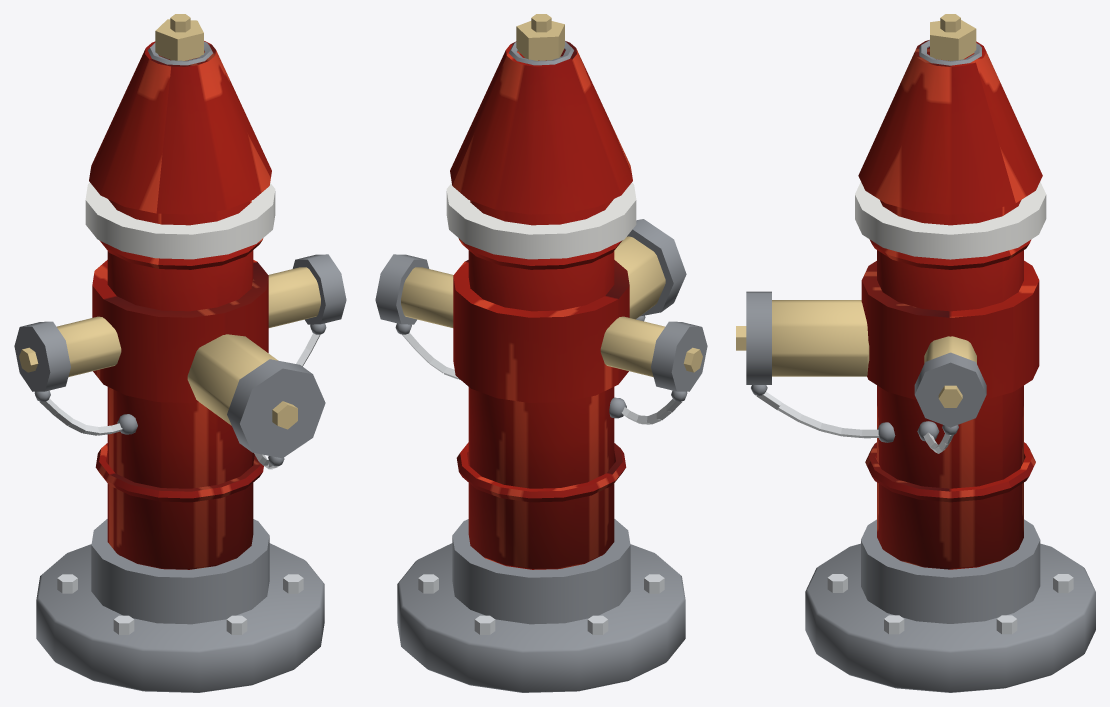
Rendered from FireHydrant_Red.fbx.
3 views of the same model, side by side, from view 1: azimuth 30°, elevation 25°; view 2: azimuth 150°, elevation 25°; view 3: azimuth 270°, elevation 25° (orthographic).
Parts seen in each view (by area): view 1: LOD0; view 2: LOD0; view 3: LOD0.
Boxes of the visible parts, <box> form: LOD0: <box>14,14,346,692</box>; LOD0: <box>375,14,707,692</box>; LOD0: <box>736,14,1095,692</box>.
Size of what is drawn, in the model's own units: 42 by 79.4 by 42.1.
